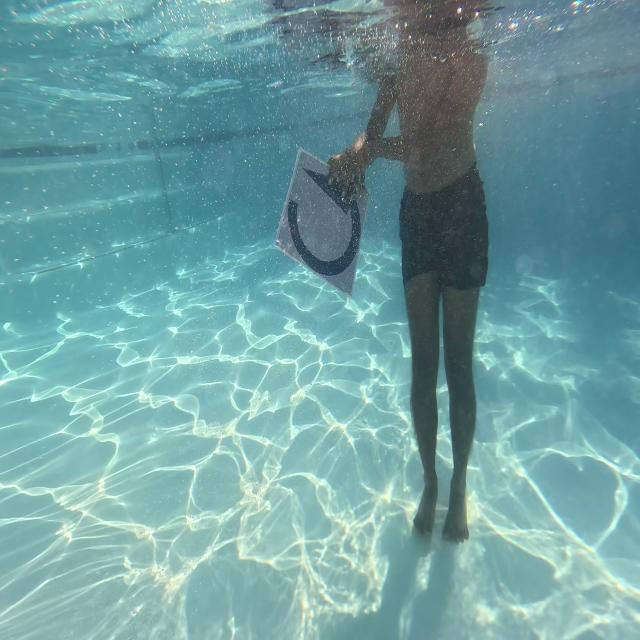blue_side: (277, 141, 371, 304)
